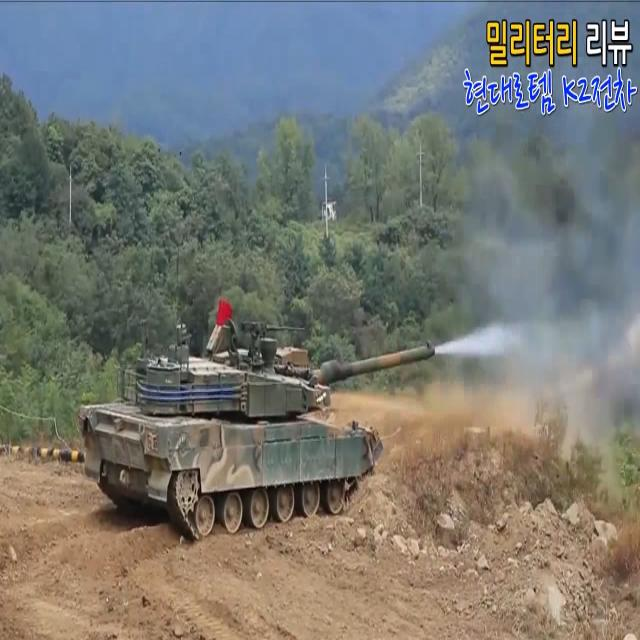korea tank: (78, 312, 436, 540)
